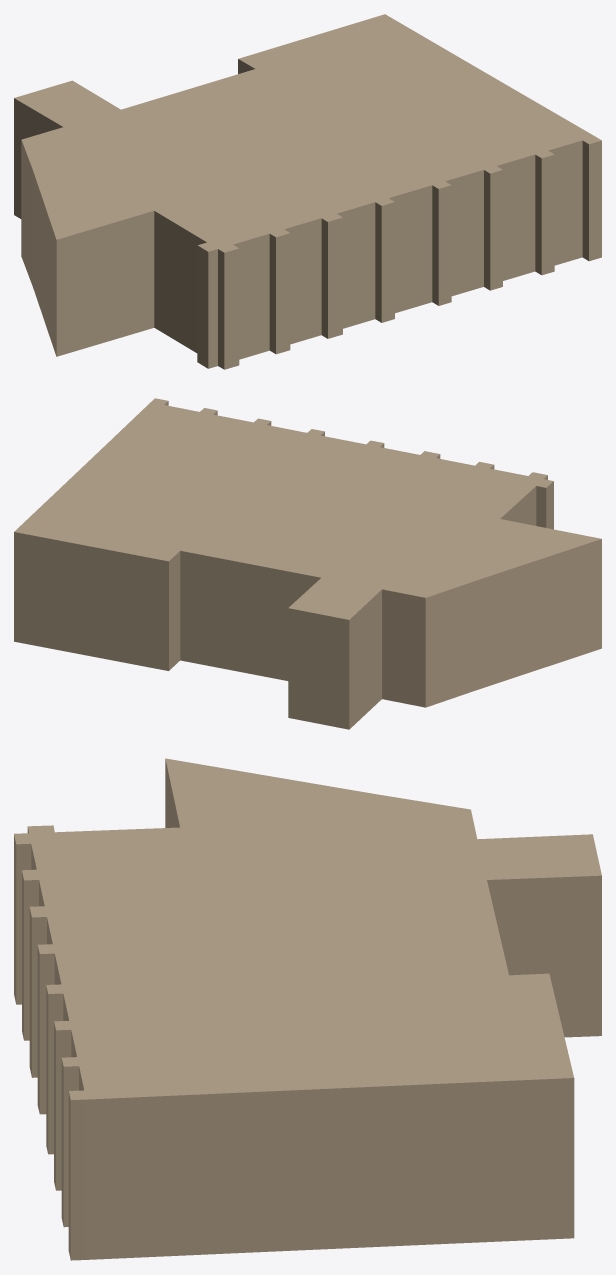
File: bld_98640372.dae
The picture shows the model from 3 angles, top to bottom: view 1: azimuth 30°, elevation 25°; view 2: azimuth 150°, elevation 25°; view 3: azimuth 270°, elevation 25°; orthographic projection. The views are drawn at different scales.
Visible parts, largest first — view 1: All Saints' Church; view 2: All Saints' Church; view 3: All Saints' Church.
Part boxes in pixels (x1,y1,x2,y2): All Saints' Church: [14, 14, 601, 369]; All Saints' Church: [14, 398, 601, 729]; All Saints' Church: [14, 758, 601, 1260].
Bounding box in the file's own units: 36.56 × 26.58 × 8.
